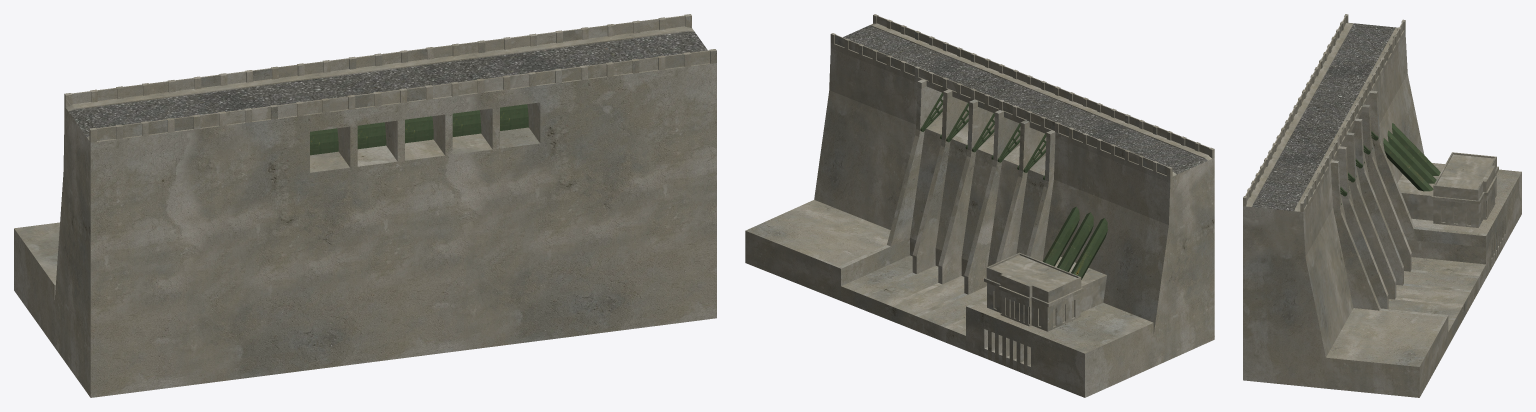
File: dam-spillway.zfix-v4.lod0.glb
3 views of the same model, side by side, from view 1: azimuth 30°, elevation 25°; view 2: azimuth 150°, elevation 25°; view 3: azimuth 270°, elevation 25° (orthographic). The views are drawn at different scales.
Visible parts, largest first — view 1: Object_7, Object_12, Object_4; view 2: Object_7, Object_12, Object_4, Object_6; view 3: Object_7, Object_12, Object_4, Object_6.
Boxes of the visible parts, left/top/right/bottom form: Object_7: left=14, top=14, right=716, bottom=397; Object_12: left=68, top=31, right=707, bottom=136; Object_4: left=310, top=104, right=528, bottom=155; Object_7: left=745, top=14, right=1214, bottom=397; Object_12: left=843, top=26, right=1207, bottom=174; Object_4: left=920, top=92, right=1107, bottom=279; Object_6: left=984, top=278, right=1083, bottom=326; Object_7: left=1243, top=14, right=1521, bottom=397; Object_12: left=1252, top=23, right=1395, bottom=210; Object_4: left=1340, top=123, right=1440, bottom=204; Object_6: left=1431, top=167, right=1498, bottom=224.
Bounding box in the file's own units: 122 × 51.58 × 71.35.
4 materials, 4 textured.
